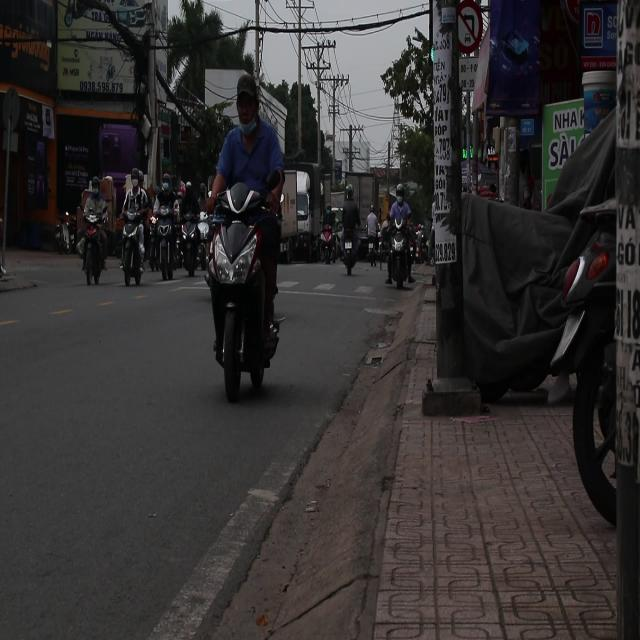motorbike: (204, 204, 282, 402), (121, 200, 145, 293), (82, 206, 104, 291), (386, 230, 416, 289), (338, 221, 360, 282), (54, 211, 78, 255), (366, 235, 388, 268)
truck: (284, 164, 324, 263)
